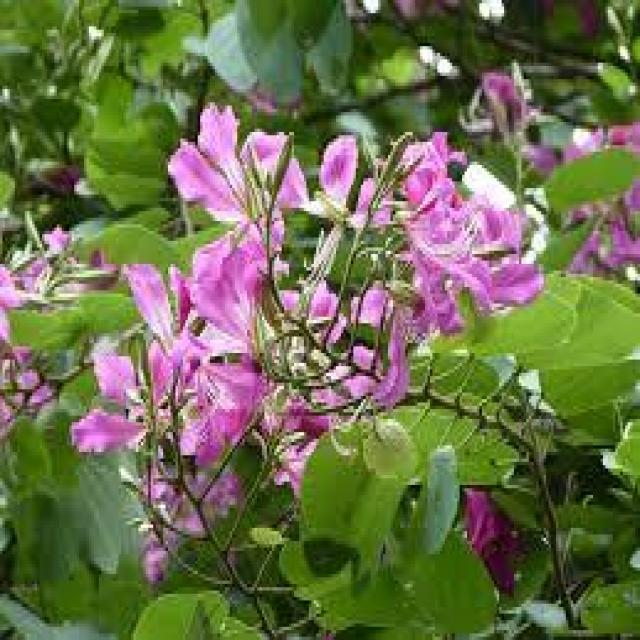organic waste: (67, 269, 222, 493), (386, 149, 546, 333), (150, 102, 296, 280), (269, 259, 418, 421)
